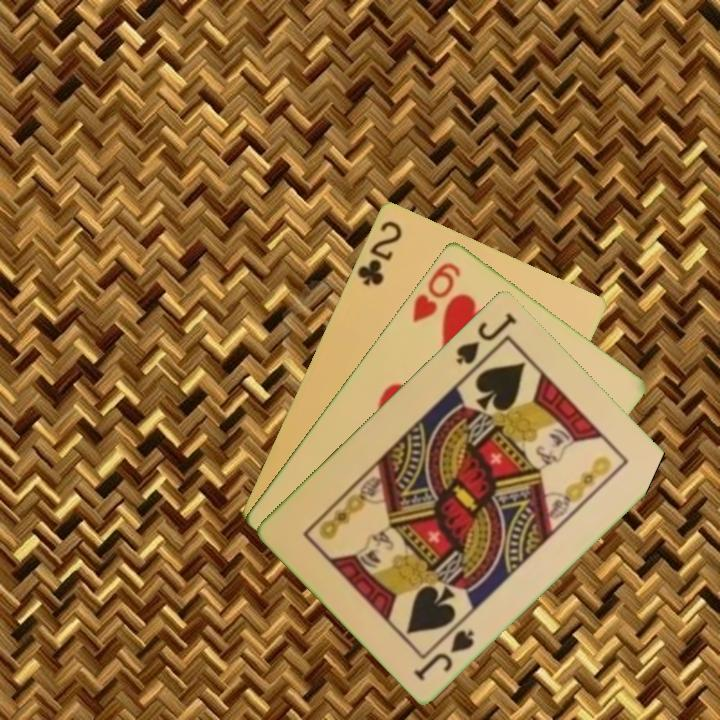2c: (353, 216, 405, 289)
6h: (408, 258, 464, 325)
Js: (452, 308, 520, 367), (410, 625, 477, 684)
